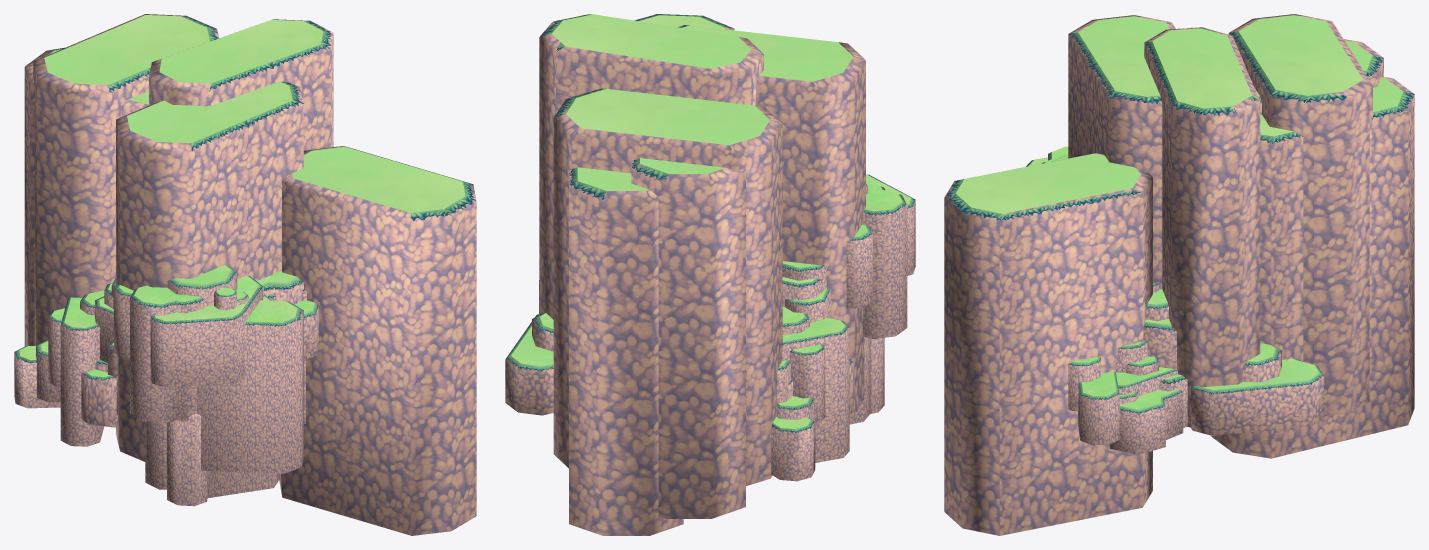
Rendered from Rock_Modules_0508.fbx.
3 views of the same model, side by side, from view 1: azimuth 30°, elevation 25°; view 2: azimuth 150°, elevation 25°; view 3: azimuth 270°, elevation 25° (orthographic). The views are drawn at different scales.
Visible parts, largest first — view 1: Module10_Side, Module10_upper, Module5_Side, Module4_Side, Module4_upper, Module6_Side, Module10_Edge, Module4_Edge, Module5_upper, Module5_Edge; view 2: Module10_Side, Module10_upper, Module4_Side, Module5_Side, Module6_Side, Module4_upper, Module4_Edge, Module10_Edge, Module6_upper, Module5_upper, Module6_Edge, Module5_Edge; view 3: Module10_Side, Module10_upper, Module6_Side, Module4_Side, Module10_Edge, Module5_Side, Module6_upper, Module4_upper, Module6_Edge, Module4_Edge, Module5_upper.
Boxes of the visible parts, <box> form: Module10_Side: <box>24,14,476,535</box>; Module10_upper: <box>44,15,465,212</box>; Module5_Side: <box>14,292,303,506</box>; Module4_Side: <box>54,266,305,446</box>; Module4_upper: <box>64,265,269,327</box>; Module6_Side: <box>81,282,318,426</box>; Module10_Edge: <box>48,16,476,221</box>; Module4_Edge: <box>54,265,271,330</box>; Module5_upper: <box>19,287,296,360</box>; Module5_Edge: <box>14,288,302,362</box>; Module10_Side: <box>539,14,865,535</box>; Module10_upper: <box>552,14,853,190</box>; Module4_Side: <box>539,184,915,462</box>; Module5_Side: <box>771,337,884,481</box>; Module6_Side: <box>505,313,853,415</box>; Module4_upper: <box>779,174,911,365</box>; Module4_Edge: <box>777,174,915,370</box>; Module10_Edge: <box>541,14,747,199</box>; Module6_upper: <box>511,313,553,365</box>; Module5_upper: <box>772,344,821,428</box>; Module6_Edge: <box>506,312,852,371</box>; Module5_Edge: <box>771,345,824,432</box>; Module10_Side: <box>944,14,1414,535</box>; Module10_upper: <box>956,15,1403,213</box>; Module6_Side: <box>1143,283,1324,435</box>; Module4_Side: <box>1027,153,1183,454</box>; Module10_Edge: <box>946,31,1414,221</box>; Module5_Side: <box>1118,342,1187,427</box>; Module6_upper: <box>1145,289,1318,389</box>; Module4_upper: <box>1029,146,1177,409</box>; Module6_Edge: <box>1143,283,1323,394</box>; Module4_Edge: <box>1026,152,1181,413</box>; Module5_upper: <box>1116,340,1181,385</box>.
Size of the model in its own units: 9795 by 11542 by 12183.
Materials: 3 (3 with a texture image).
